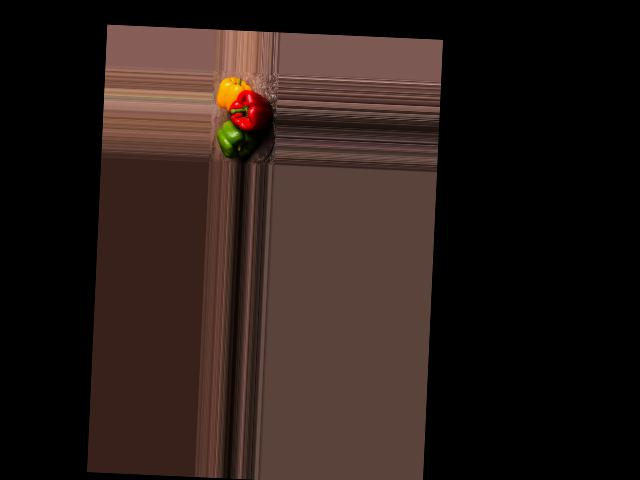bell_pepper: (214, 76, 252, 110)
